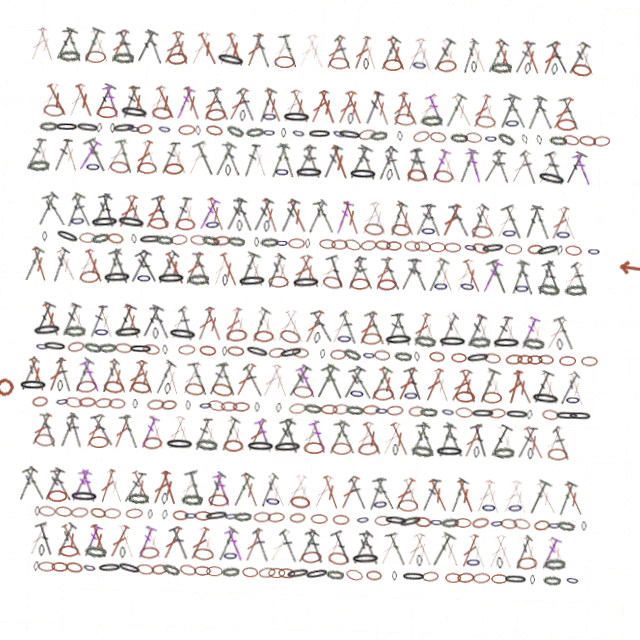chain: (208, 54, 239, 71), (532, 164, 563, 181), (113, 110, 144, 125), (113, 220, 144, 235), (32, 330, 63, 345), (113, 330, 144, 345), (532, 385, 563, 400), (52, 235, 78, 252), (87, 221, 117, 235), (101, 276, 131, 290), (236, 276, 266, 290), (290, 276, 320, 290), (168, 331, 198, 345), (276, 441, 306, 455), (533, 236, 559, 252), (403, 511, 429, 527), (279, 329, 302, 346), (155, 276, 185, 289), (384, 331, 414, 344), (245, 346, 271, 361), (279, 346, 305, 361), (357, 551, 387, 564), (123, 566, 149, 581), (292, 567, 318, 581), (311, 567, 337, 581), (276, 112, 306, 124), (290, 167, 320, 179), (344, 167, 374, 179), (438, 332, 468, 344), (492, 332, 522, 344), (20, 387, 50, 399), (168, 442, 198, 454), (249, 442, 279, 454), (438, 442, 468, 454), (74, 497, 104, 509), (106, 127, 132, 140), (478, 237, 504, 250), (466, 347, 492, 360), (209, 512, 235, 525), (213, 385, 235, 400), (361, 440, 383, 455), (23, 166, 46, 180), (536, 276, 559, 290), (563, 276, 586, 290), (414, 331, 437, 345), (414, 441, 437, 455), (491, 126, 511, 142), (321, 275, 342, 290), (132, 385, 153, 400), (37, 111, 59, 125), (334, 551, 356, 565), (70, 128, 95, 140), (220, 126, 240, 141), (332, 128, 357, 140), (136, 238, 161, 250), (343, 346, 363, 361), (168, 566, 188, 581), (564, 56, 585, 70), (105, 166, 126, 180), (429, 166, 450, 180), (361, 221, 382, 235), (388, 221, 409, 235), (78, 276, 99, 290), (78, 386, 99, 400), (51, 56, 73, 69), (483, 56, 505, 69), (415, 111, 437, 124), (186, 276, 208, 289), (64, 331, 86, 344), (226, 331, 248, 344), (469, 331, 491, 344), (523, 331, 545, 344), (199, 441, 221, 454), (496, 441, 518, 454), (91, 551, 113, 564), (550, 551, 572, 564), (407, 126, 426, 141), (88, 237, 108, 251), (43, 348, 68, 359), (389, 513, 414, 524), (104, 568, 129, 579), (469, 221, 490, 234), (105, 386, 126, 399), (186, 386, 207, 399), (375, 386, 396, 399), (523, 551, 544, 564), (341, 237, 360, 251), (469, 237, 488, 251), (352, 567, 371, 581), (105, 57, 127, 69), (132, 497, 154, 509), (186, 497, 208, 509), (160, 56, 180, 69), (430, 56, 450, 69), (146, 111, 166, 124), (200, 111, 220, 124), (389, 111, 409, 124), (470, 111, 490, 124), (403, 166, 423, 179), (362, 331, 382, 344), (295, 386, 315, 399), (38, 441, 58, 454), (146, 441, 166, 454), (295, 496, 315, 509), (146, 551, 166, 564), (200, 551, 220, 564), (308, 551, 328, 564), (78, 57, 99, 69), (267, 57, 288, 69), (91, 112, 112, 124), (267, 277, 288, 289), (307, 442, 328, 454), (213, 497, 234, 509), (49, 129, 74, 139), (302, 129, 327, 139), (129, 349, 154, 359), (473, 404, 498, 414), (507, 404, 532, 414), (557, 404, 582, 414), (570, 404, 595, 414), (408, 569, 433, 579), (510, 569, 535, 579), (199, 237, 218, 250), (84, 347, 103, 360), (322, 57, 342, 69), (376, 57, 396, 69), (551, 112, 571, 124), (133, 167, 153, 179), (160, 167, 180, 179), (146, 222, 166, 234), (173, 222, 193, 234), (349, 277, 369, 289), (376, 277, 396, 289), (254, 332, 274, 344), (457, 387, 477, 399), (484, 387, 504, 399), (92, 442, 112, 454), (227, 442, 247, 454), (335, 442, 355, 454), (551, 442, 571, 454), (52, 497, 72, 509), (403, 497, 423, 509), (65, 552, 85, 564), (200, 127, 218, 140), (353, 127, 371, 140), (557, 127, 575, 140), (68, 347, 86, 360), (210, 402, 228, 415), (477, 512, 495, 525), (518, 512, 536, 525), (186, 567, 204, 580), (240, 128, 259, 140), (364, 128, 383, 140), (446, 513, 465, 525), (562, 513, 581, 525), (228, 568, 247, 580), (404, 56, 421, 69), (458, 276, 475, 289), (377, 496, 394, 509), (512, 496, 529, 509), (424, 128, 442, 140), (143, 348, 161, 360), (269, 348, 287, 360), (506, 348, 524, 360), (67, 403, 85, 415), (97, 403, 115, 415), (149, 403, 167, 415), (291, 403, 309, 415), (76, 513, 94, 525), (419, 513, 437, 525), (72, 568, 90, 580), (143, 568, 161, 580), (265, 568, 283, 580), (326, 127, 342, 140), (67, 221, 83, 234), (202, 221, 218, 234), (351, 386, 367, 399), (270, 496, 286, 509), (131, 128, 148, 140), (105, 238, 122, 250), (358, 238, 375, 250), (34, 403, 51, 415), (163, 403, 180, 415), (95, 513, 112, 525), (539, 513, 556, 525), (34, 128, 52, 139), (168, 238, 186, 249), (225, 238, 243, 249), (258, 238, 276, 249), (99, 348, 117, 359), (306, 403, 324, 414), (544, 403, 562, 414), (60, 513, 78, 524), (239, 513, 257, 524), (256, 112, 272, 124), (499, 112, 515, 124), (81, 167, 97, 179), (270, 167, 286, 179), (418, 222, 434, 234), (499, 222, 515, 234), (553, 222, 569, 234), (135, 277, 151, 289), (432, 277, 448, 289), (513, 277, 529, 289), (94, 332, 110, 344), (337, 332, 353, 344), (405, 387, 421, 399), (567, 387, 583, 399), (486, 497, 502, 509), (229, 552, 245, 564), (472, 552, 488, 564), (173, 128, 190, 139), (460, 128, 477, 139), (574, 128, 591, 139), (588, 128, 605, 139), (188, 238, 205, 249), (211, 238, 228, 249), (412, 238, 429, 249), (525, 238, 542, 249), (563, 238, 580, 249), (116, 348, 133, 359), (179, 348, 196, 359), (200, 348, 217, 359), (228, 348, 245, 359), (293, 348, 310, 359), (485, 348, 502, 359), (81, 403, 98, 414), (335, 403, 352, 414), (365, 403, 382, 414), (389, 403, 406, 414), (411, 403, 428, 414), (458, 403, 475, 414), (491, 403, 508, 414), (44, 513, 61, 524), (131, 513, 148, 524), (259, 513, 276, 524), (273, 513, 290, 524), (506, 513, 523, 524), (158, 568, 175, 579), (429, 568, 446, 579), (464, 568, 481, 579), (480, 568, 497, 579), (121, 128, 136, 140), (286, 128, 301, 140), (445, 129, 463, 139), (544, 129, 562, 139), (153, 239, 171, 249), (395, 349, 413, 359), (348, 404, 366, 414), (422, 404, 440, 414), (89, 568, 104, 580), (333, 569, 351, 579), (550, 569, 568, 579), (373, 238, 389, 249), (402, 238, 418, 249), (375, 348, 391, 359), (430, 348, 446, 359), (539, 348, 555, 359), (295, 513, 311, 524), (77, 239, 94, 249), (286, 239, 303, 249), (317, 239, 334, 249), (329, 239, 346, 249), (427, 239, 444, 249), (442, 239, 459, 249), (503, 239, 520, 249), (560, 349, 577, 359), (582, 349, 599, 359), (111, 404, 128, 414), (223, 404, 240, 414), (235, 404, 252, 414), (323, 404, 340, 414), (109, 514, 126, 524), (200, 514, 217, 524), (316, 514, 333, 524), (338, 514, 355, 524), (380, 514, 397, 524), (460, 514, 477, 524), (45, 569, 62, 579), (58, 569, 75, 579), (201, 569, 218, 579), (213, 569, 230, 579), (275, 569, 292, 579), (285, 569, 302, 579), (498, 569, 515, 579), (152, 128, 167, 139), (461, 238, 476, 249), (57, 403, 72, 414), (443, 403, 458, 414), (229, 513, 244, 524), (361, 513, 376, 524), (495, 513, 510, 524), (572, 568, 587, 579), (384, 239, 400, 249), (331, 349, 347, 359), (452, 349, 468, 359), (518, 349, 534, 359), (528, 349, 544, 359), (178, 514, 194, 524), (249, 569, 265, 579), (373, 569, 389, 579), (452, 569, 468, 579), (201, 403, 215, 414), (257, 129, 271, 139), (479, 129, 493, 139), (273, 239, 287, 249), (585, 239, 599, 249), (36, 349, 50, 359), (363, 349, 377, 359), (377, 404, 391, 414), (189, 514, 203, 524), (435, 514, 449, 524), (553, 514, 567, 524), (516, 128, 524, 139), (517, 57, 524, 69), (544, 57, 551, 69), (382, 167, 389, 179), (314, 332, 321, 344), (557, 332, 564, 344), (166, 387, 173, 399), (166, 497, 173, 509), (503, 552, 510, 564), (356, 57, 362, 69), (464, 57, 470, 69), (234, 112, 240, 124), (342, 112, 348, 124), (221, 167, 227, 179), (234, 222, 240, 234), (261, 222, 267, 234), (221, 277, 227, 289), (153, 332, 159, 344), (59, 387, 65, 399), (396, 442, 402, 454), (477, 442, 483, 454), (531, 442, 537, 454), (45, 552, 51, 564), (126, 552, 132, 564), (423, 552, 429, 564), (531, 129, 538, 139), (554, 239, 561, 249), (91, 129, 97, 139), (190, 129, 196, 139), (392, 129, 398, 139), (129, 239, 135, 249), (163, 349, 169, 359), (415, 349, 421, 359), (278, 404, 284, 414), (529, 404, 535, 414), (167, 514, 173, 524), (40, 569, 46, 579), (105, 129, 110, 139), (276, 129, 281, 139), (40, 239, 45, 249), (252, 239, 257, 249), (303, 239, 308, 249), (223, 349, 228, 359), (321, 349, 326, 359), (135, 404, 140, 414), (188, 404, 193, 414), (257, 404, 262, 414), (40, 514, 45, 524), (153, 514, 158, 524), (587, 514, 592, 524), (399, 569, 404, 579), (537, 569, 542, 579)
double: (434, 528, 463, 566), (78, 143, 107, 180), (132, 253, 161, 290), (187, 143, 215, 181), (341, 143, 369, 181), (497, 198, 525, 236), (314, 363, 342, 401), (322, 363, 350, 401), (538, 33, 566, 70), (489, 418, 517, 455), (106, 253, 133, 291), (484, 253, 511, 291), (530, 473, 557, 511), (38, 199, 66, 235), (349, 364, 377, 400), (44, 33, 71, 70), (125, 33, 152, 70), (476, 33, 503, 70), (435, 88, 462, 125), (497, 88, 524, 125), (206, 143, 233, 180), (557, 143, 584, 180), (422, 253, 449, 290), (138, 308, 165, 345), (368, 363, 395, 400), (327, 418, 354, 455), (25, 473, 52, 510), (233, 473, 260, 510), (376, 473, 403, 510), (300, 528, 327, 565), (335, 528, 362, 565), (72, 33, 98, 71), (490, 88, 516, 126), (234, 253, 260, 291), (477, 363, 503, 401), (38, 89, 65, 125), (443, 89, 470, 125), (470, 199, 497, 235), (52, 254, 79, 290), (543, 309, 570, 345), (287, 364, 314, 400), (449, 364, 476, 400), (524, 419, 551, 455), (538, 474, 565, 510), (65, 529, 92, 565), (273, 529, 300, 565), (551, 529, 578, 565), (369, 33, 395, 70), (85, 88, 111, 125), (201, 88, 227, 125), (309, 198, 335, 235), (18, 253, 44, 290), (539, 253, 565, 290), (31, 308, 57, 345), (112, 308, 138, 345), (153, 363, 179, 400), (531, 363, 557, 400), (336, 418, 362, 455), (220, 528, 246, 565), (390, 528, 416, 565), (282, 418, 307, 456), (71, 144, 98, 179), (153, 34, 179, 70), (423, 34, 449, 70), (558, 34, 584, 70), (147, 89, 173, 125), (390, 89, 416, 125), (409, 89, 435, 125), (544, 89, 570, 125), (161, 144, 187, 180), (282, 199, 308, 235), (161, 254, 187, 290), (296, 254, 322, 290), (315, 254, 341, 290), (558, 254, 584, 290), (255, 309, 281, 345), (274, 309, 300, 345), (282, 309, 308, 345), (525, 309, 551, 345), (234, 364, 260, 400), (342, 364, 368, 400), (512, 364, 538, 400), (31, 419, 57, 455), (274, 419, 300, 455), (363, 419, 389, 455), (498, 419, 524, 455), (396, 474, 422, 510), (517, 88, 542, 125), (552, 88, 577, 125), (450, 143, 475, 180), (147, 198, 172, 235), (417, 198, 442, 235), (323, 253, 348, 290), (363, 308, 388, 345), (390, 308, 415, 345), (552, 308, 577, 345), (72, 363, 97, 400), (188, 363, 213, 400), (404, 363, 429, 400), (220, 418, 245, 455), (188, 473, 213, 510), (558, 473, 583, 510), (99, 144, 125, 179), (444, 309, 470, 344), (288, 474, 314, 509), (80, 34, 105, 70), (107, 34, 132, 70), (188, 34, 213, 70), (288, 34, 313, 70), (296, 34, 321, 70), (315, 34, 340, 70), (377, 34, 402, 70), (431, 34, 456, 70), (31, 89, 56, 125), (66, 89, 91, 125), (120, 89, 145, 125), (220, 89, 245, 125), (282, 89, 307, 125), (180, 144, 205, 180), (504, 144, 529, 180), (531, 144, 556, 180), (539, 144, 564, 180), (112, 199, 137, 235), (120, 199, 145, 235), (139, 199, 164, 235), (193, 199, 218, 235), (220, 199, 245, 235), (247, 199, 272, 235), (355, 199, 380, 235), (436, 199, 461, 235), (490, 199, 515, 235), (552, 199, 577, 235), (126, 254, 151, 290), (288, 254, 313, 290), (80, 364, 105, 400), (126, 364, 151, 400), (261, 364, 286, 400), (296, 364, 321, 400), (396, 364, 421, 400), (228, 419, 253, 455), (382, 419, 407, 455), (134, 474, 159, 510), (269, 474, 294, 510), (342, 474, 367, 510), (431, 474, 456, 510), (504, 474, 529, 510), (166, 529, 191, 565), (174, 529, 199, 565), (193, 529, 218, 565), (417, 529, 442, 565), (54, 33, 78, 70), (270, 33, 294, 70), (248, 88, 272, 125), (262, 143, 286, 180), (59, 198, 83, 235), (518, 198, 542, 235), (526, 198, 550, 235), (505, 253, 529, 290), (248, 308, 272, 345), (216, 363, 240, 400), (121, 418, 145, 455), (418, 418, 442, 455), (437, 418, 461, 455), (472, 418, 496, 455), (451, 473, 475, 510), (40, 528, 64, 565), (31, 199, 56, 234), (153, 254, 178, 289), (93, 419, 118, 454), (355, 529, 380, 564), (100, 34, 124, 70), (181, 34, 205, 70), (208, 34, 232, 70), (216, 34, 240, 70), (397, 34, 421, 70), (405, 34, 429, 70), (459, 34, 483, 70), (567, 34, 591, 70), (194, 89, 218, 125), (310, 89, 334, 125), (418, 89, 442, 125), (324, 144, 348, 180), (405, 144, 429, 180), (432, 144, 456, 180), (364, 199, 388, 235), (391, 199, 415, 235), (545, 199, 569, 235), (81, 254, 105, 290), (216, 254, 240, 290), (432, 254, 456, 290), (451, 254, 475, 290), (459, 254, 483, 290), (478, 254, 502, 290), (67, 309, 91, 345), (167, 309, 191, 345), (202, 309, 226, 345), (229, 309, 253, 345), (302, 309, 326, 345), (356, 309, 380, 345), (464, 309, 488, 345), (499, 309, 523, 345), (108, 364, 132, 400), (135, 364, 159, 400), (181, 364, 205, 400), (378, 364, 402, 400), (486, 364, 510, 400), (540, 364, 564, 400), (86, 419, 110, 455), (167, 419, 191, 455), (202, 419, 226, 455), (248, 419, 272, 455), (356, 419, 380, 455), (391, 419, 415, 455), (464, 419, 488, 455), (46, 474, 70, 510), (73, 474, 97, 510), (243, 474, 267, 510), (297, 474, 321, 510), (316, 474, 340, 510), (405, 474, 429, 510), (567, 474, 591, 510), (32, 529, 56, 565), (113, 529, 137, 565), (148, 529, 172, 565), (202, 529, 226, 565), (229, 529, 253, 565), (310, 529, 334, 565), (383, 529, 407, 565), (410, 529, 434, 565), (445, 529, 469, 565), (472, 529, 496, 565), (491, 529, 515, 565), (94, 198, 117, 235), (383, 198, 406, 235), (370, 144, 394, 179), (478, 144, 502, 179), (67, 199, 91, 234), (86, 199, 110, 234), (351, 254, 375, 289), (310, 309, 334, 344), (559, 364, 583, 399), (410, 419, 434, 454), (19, 474, 43, 509), (54, 474, 78, 509), (59, 529, 83, 564), (27, 34, 50, 70), (162, 34, 185, 70), (262, 34, 285, 70), (343, 34, 366, 70), (486, 34, 509, 70), (513, 34, 536, 70), (167, 89, 190, 125), (175, 89, 198, 125), (256, 89, 279, 125), (275, 89, 298, 125), (302, 89, 325, 125), (329, 89, 352, 125), (337, 89, 360, 125), (356, 89, 379, 125), (464, 89, 487, 125), (472, 89, 495, 125), (135, 144, 158, 180), (316, 144, 339, 180), (424, 144, 447, 180), (567, 144, 590, 180), (175, 199, 198, 235), (202, 199, 225, 235), (256, 199, 279, 235), (275, 199, 298, 235), (445, 199, 468, 235), (464, 199, 487, 235), (73, 254, 96, 290), (181, 254, 204, 290), (262, 254, 285, 290), (270, 254, 293, 290), (40, 309, 63, 345), (59, 309, 82, 345), (121, 309, 144, 345), (194, 309, 217, 345), (329, 309, 352, 345), (410, 309, 433, 345), (418, 309, 441, 345), (518, 309, 541, 345), (270, 364, 293, 400), (424, 364, 447, 400), (432, 364, 455, 400), (459, 364, 482, 400), (567, 364, 590, 400), (59, 419, 82, 455), (175, 419, 198, 455), (256, 419, 279, 455), (545, 419, 568, 455), (108, 474, 131, 510), (154, 474, 177, 510), (216, 474, 239, 510), (459, 474, 482, 510), (478, 474, 501, 510), (513, 474, 536, 510), (94, 529, 117, 565), (121, 529, 144, 565), (248, 529, 271, 565), (329, 529, 352, 565), (499, 529, 522, 565), (545, 529, 568, 565), (243, 365, 267, 399), (127, 475, 151, 509), (109, 143, 131, 180), (271, 143, 293, 180), (229, 89, 252, 124), (351, 474, 374, 509), (20, 34, 42, 70), (236, 34, 258, 70), (533, 34, 555, 70), (60, 89, 82, 125), (95, 89, 117, 125), (141, 89, 163, 125), (365, 89, 387, 125), (28, 144, 50, 180), (55, 144, 77, 180), (128, 144, 150, 180), (244, 144, 266, 180), (338, 199, 360, 235), (47, 254, 69, 290), (244, 254, 266, 290), (371, 254, 393, 290), (95, 309, 117, 345), (149, 309, 171, 345), (222, 309, 244, 345), (473, 309, 495, 345), (28, 364, 50, 400), (47, 364, 69, 400), (114, 419, 136, 455), (141, 419, 163, 455), (149, 419, 171, 455), (303, 419, 325, 455), (311, 419, 333, 455), (446, 419, 468, 455), (82, 474, 104, 510), (163, 474, 185, 510), (182, 474, 204, 510), (209, 474, 231, 510), (325, 474, 347, 510), (87, 529, 109, 565), (141, 529, 163, 565), (465, 529, 487, 565), (325, 34, 347, 69), (506, 34, 528, 69), (527, 89, 549, 124), (20, 144, 42, 179), (290, 144, 312, 179), (303, 199, 325, 234), (411, 199, 433, 234), (379, 254, 401, 289), (398, 254, 420, 289), (568, 254, 590, 289), (338, 309, 360, 344), (438, 309, 460, 344), (20, 364, 42, 399), (519, 419, 541, 454), (554, 419, 576, 454), (284, 529, 306, 564), (352, 34, 373, 70), (384, 89, 405, 125), (460, 144, 481, 180), (230, 199, 251, 235), (330, 199, 351, 235), (28, 254, 49, 290), (209, 254, 230, 290), (406, 254, 427, 290), (487, 474, 508, 510), (365, 529, 386, 565), (527, 529, 548, 565), (155, 144, 176, 179), (217, 144, 238, 179), (298, 144, 319, 179), (379, 144, 400, 179), (487, 144, 508, 179), (514, 144, 535, 179), (190, 254, 211, 289), (492, 309, 513, 344), (101, 364, 122, 399), (209, 364, 230, 399), (263, 474, 284, 509), (425, 474, 446, 509), (257, 529, 278, 564), (519, 529, 540, 564), (245, 34, 265, 70), (88, 309, 108, 345), (164, 364, 184, 400), (507, 364, 527, 400), (196, 419, 216, 455), (102, 474, 122, 510), (137, 34, 157, 69), (48, 144, 68, 179), (353, 144, 373, 179), (169, 199, 189, 234), (345, 254, 365, 289), (534, 254, 554, 289), (56, 364, 76, 399), (453, 34, 472, 70), (115, 89, 134, 125), (102, 254, 121, 290), (515, 254, 534, 290), (177, 309, 196, 345), (385, 309, 404, 345), (42, 419, 61, 455), (69, 419, 88, 455), (372, 474, 391, 510), (238, 144, 256, 180), (400, 144, 418, 180)
noise: (615, 251, 640, 268), (0, 385, 18, 407)
